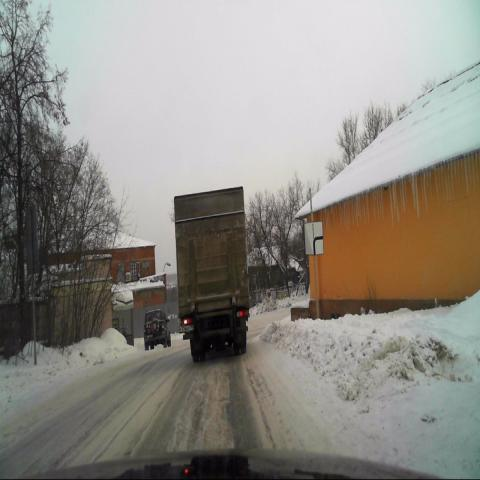8_13: (304, 222, 323, 256)
